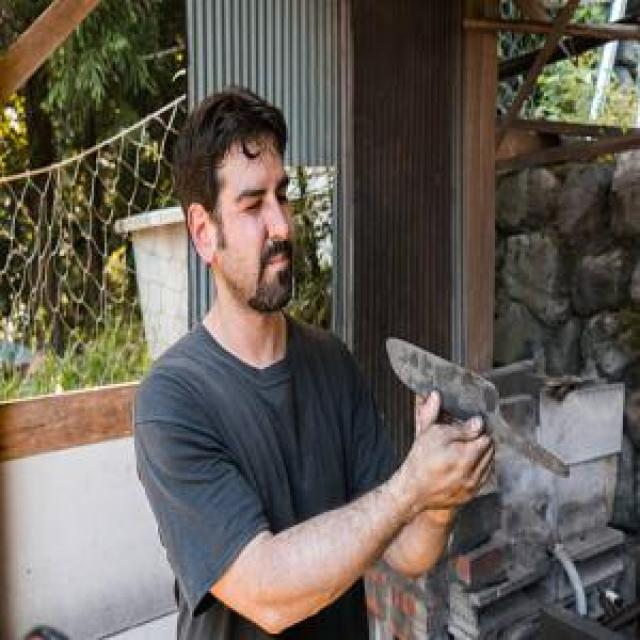knife: (384, 337, 571, 480)
